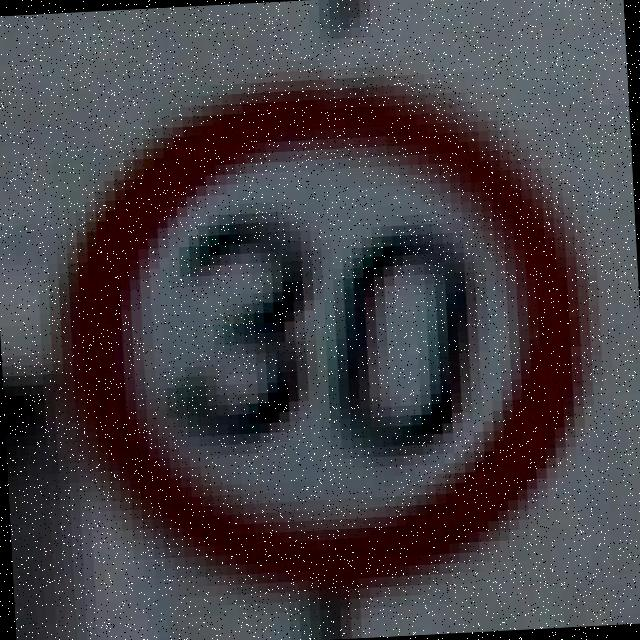Ograniczenie predkosci do 30: (60, 71, 595, 600)
